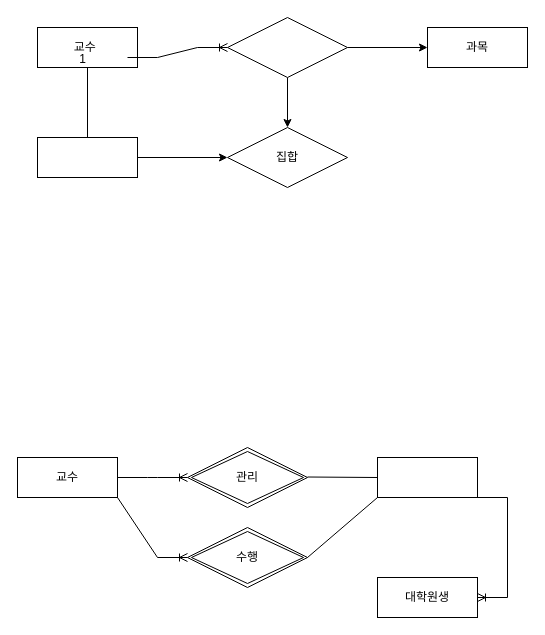
Some shapes in this 545 by 635 pixel diagram are drawn without their labels. The centre of each missing label's shape, as x and y in pixels:
"강의" goes at point (287, 47).
"과제" goes at point (427, 477).
"교수진" goes at point (87, 157).
